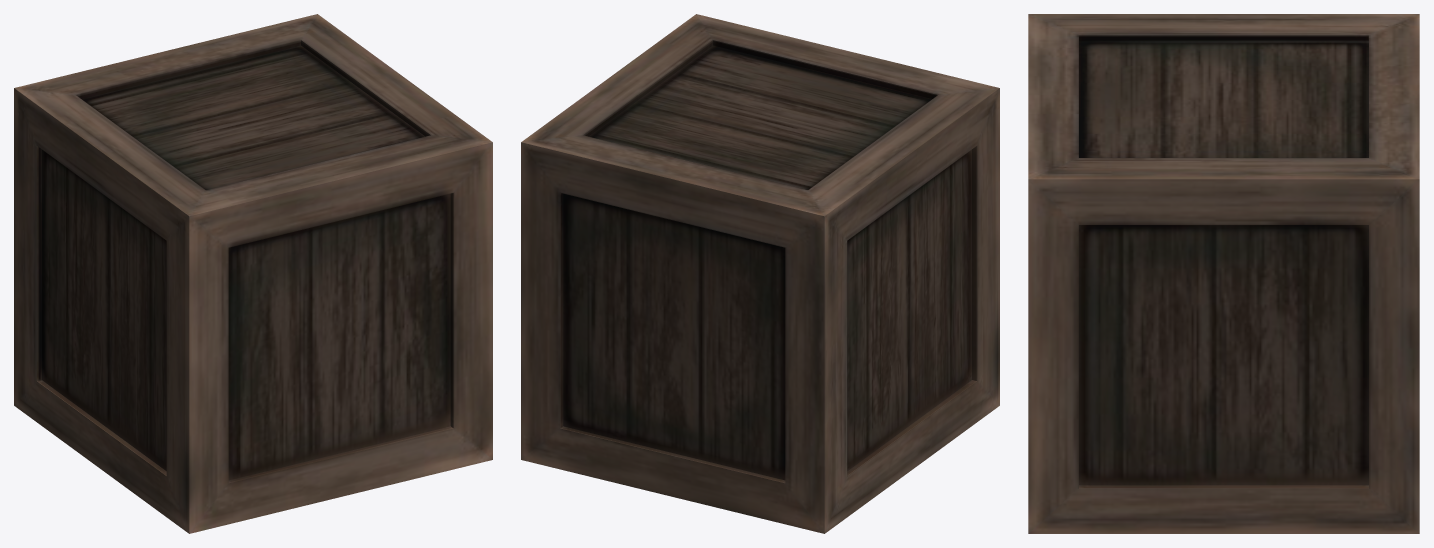
Rendered from crate.glb.
3 views of the same model, side by side, from view 1: azimuth 30°, elevation 25°; view 2: azimuth 150°, elevation 25°; view 3: azimuth 270°, elevation 25° (orthographic). The views are drawn at different scales.
Parts seen in each view (by area): view 1: crate; view 2: crate; view 3: crate.
Boxes of the visible parts, bbox=[...] form: crate: bbox=[14, 14, 492, 533]; crate: bbox=[521, 14, 999, 533]; crate: bbox=[1028, 14, 1419, 533].
Bounding box in the file's own units: 0.8 × 0.8 × 0.8.
1 material, 1 textured.
